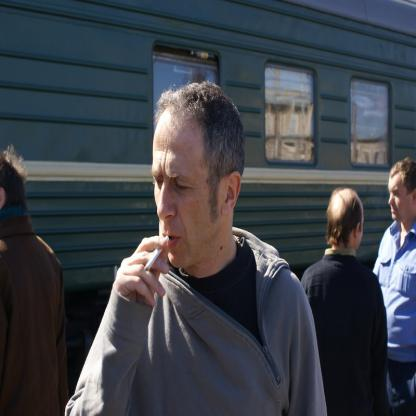smoking: (144, 236, 169, 271)
